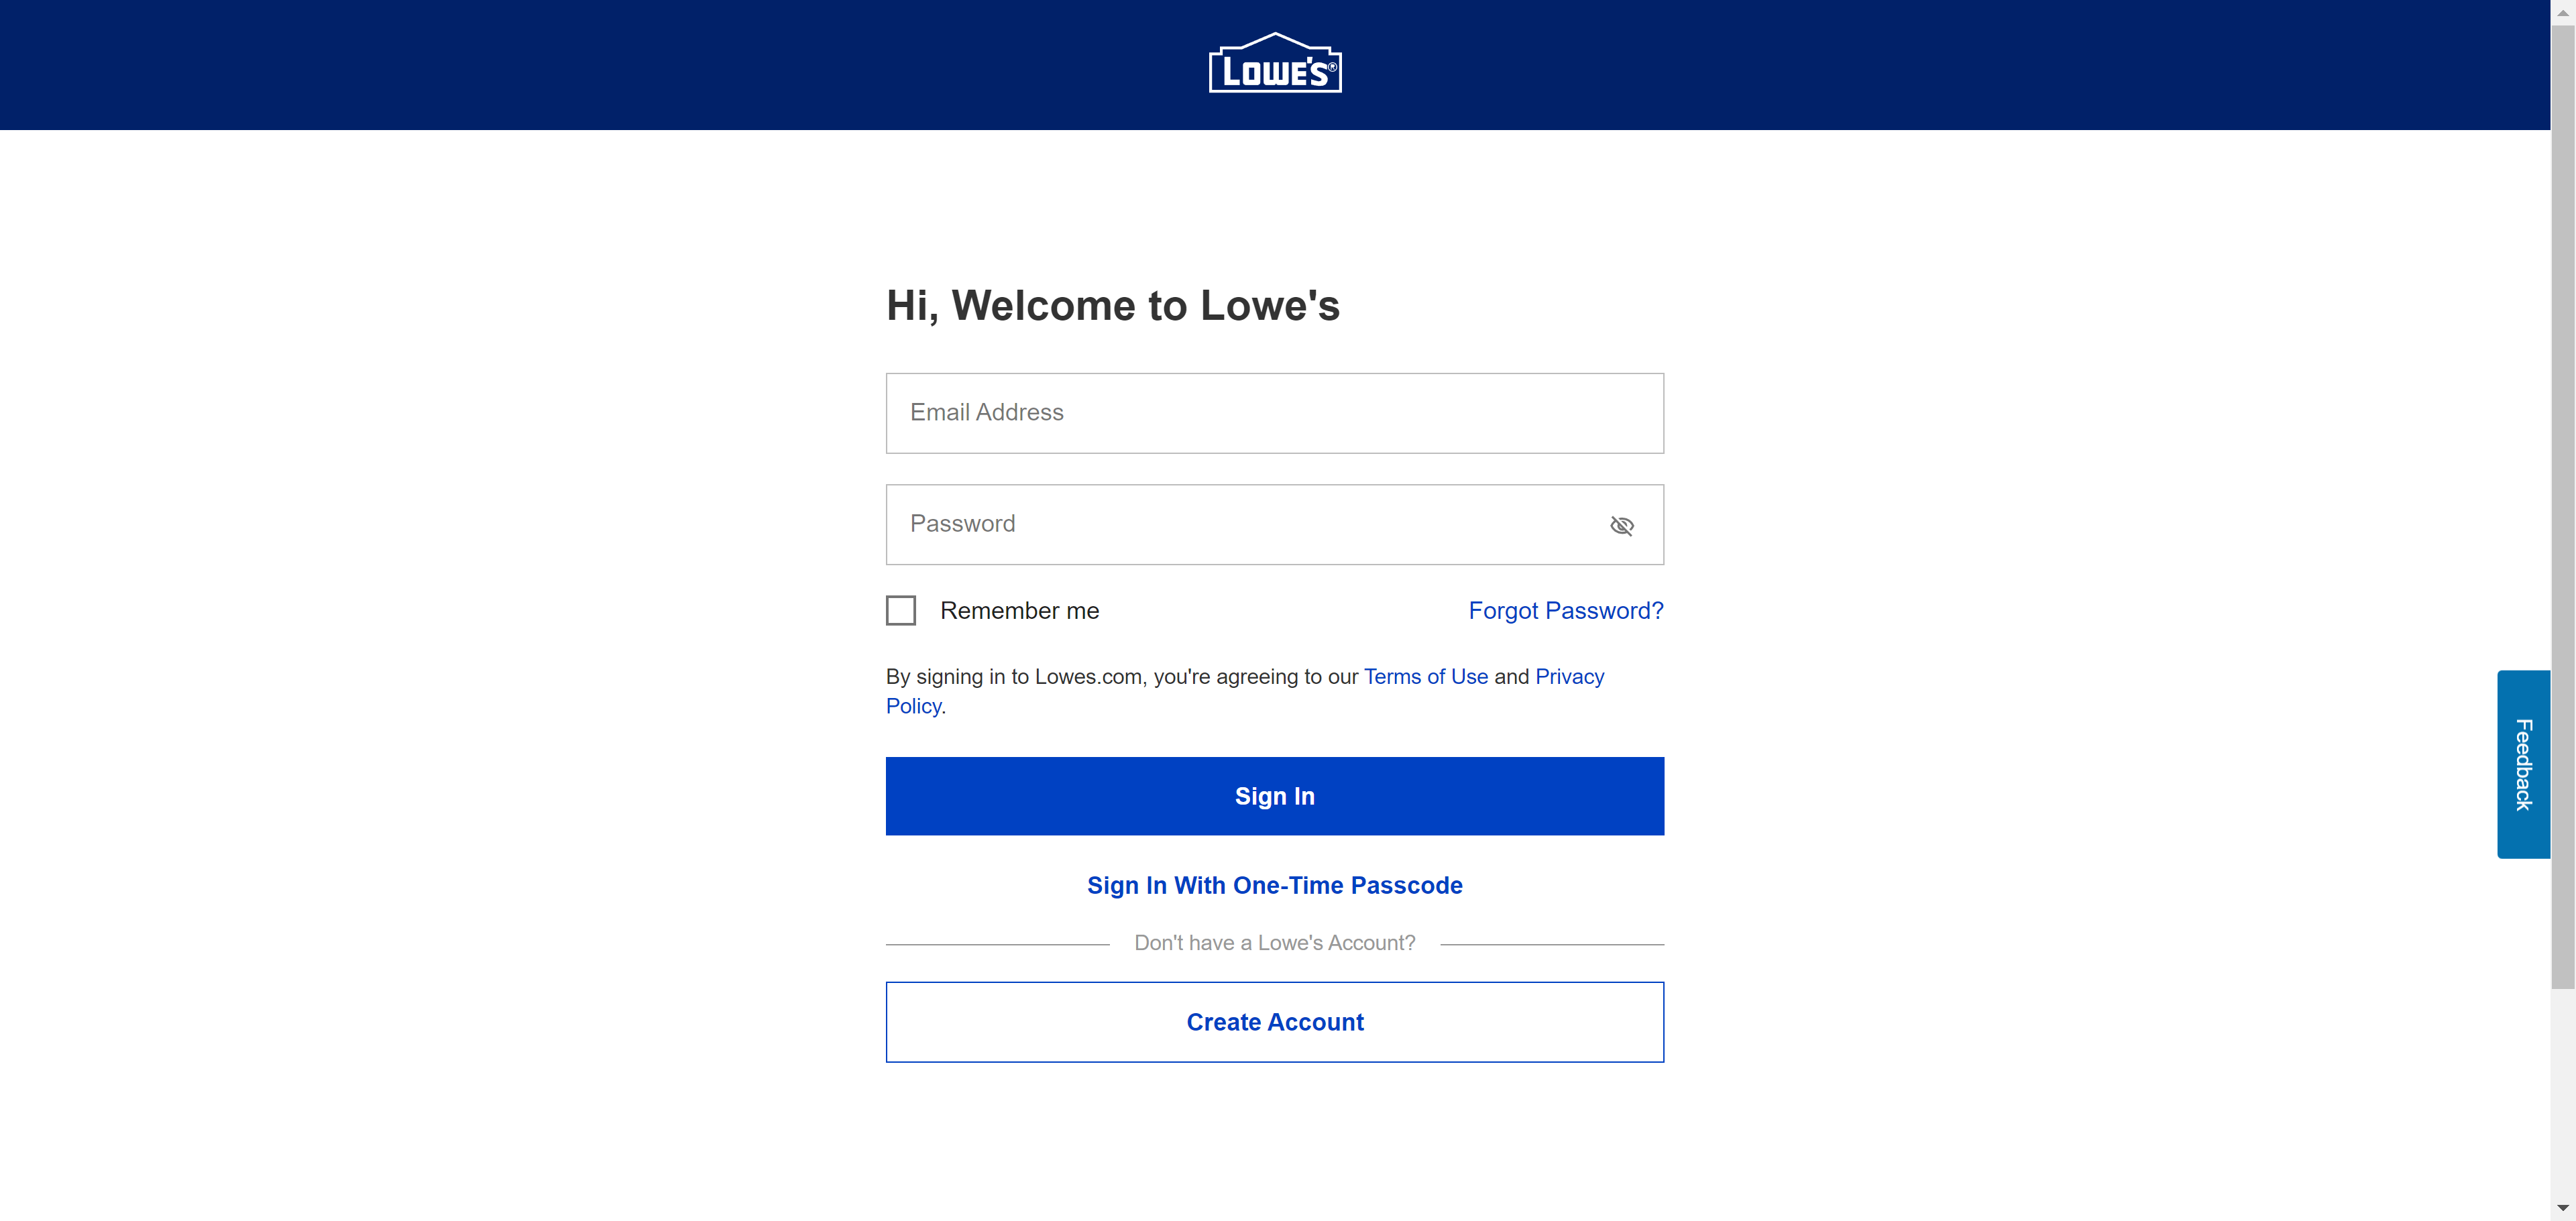login_button: (885, 758, 1664, 835)
login_form: (879, 366, 1672, 841)
